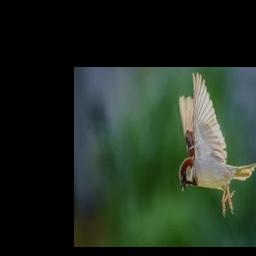Sparrow: (177, 72, 256, 216)
